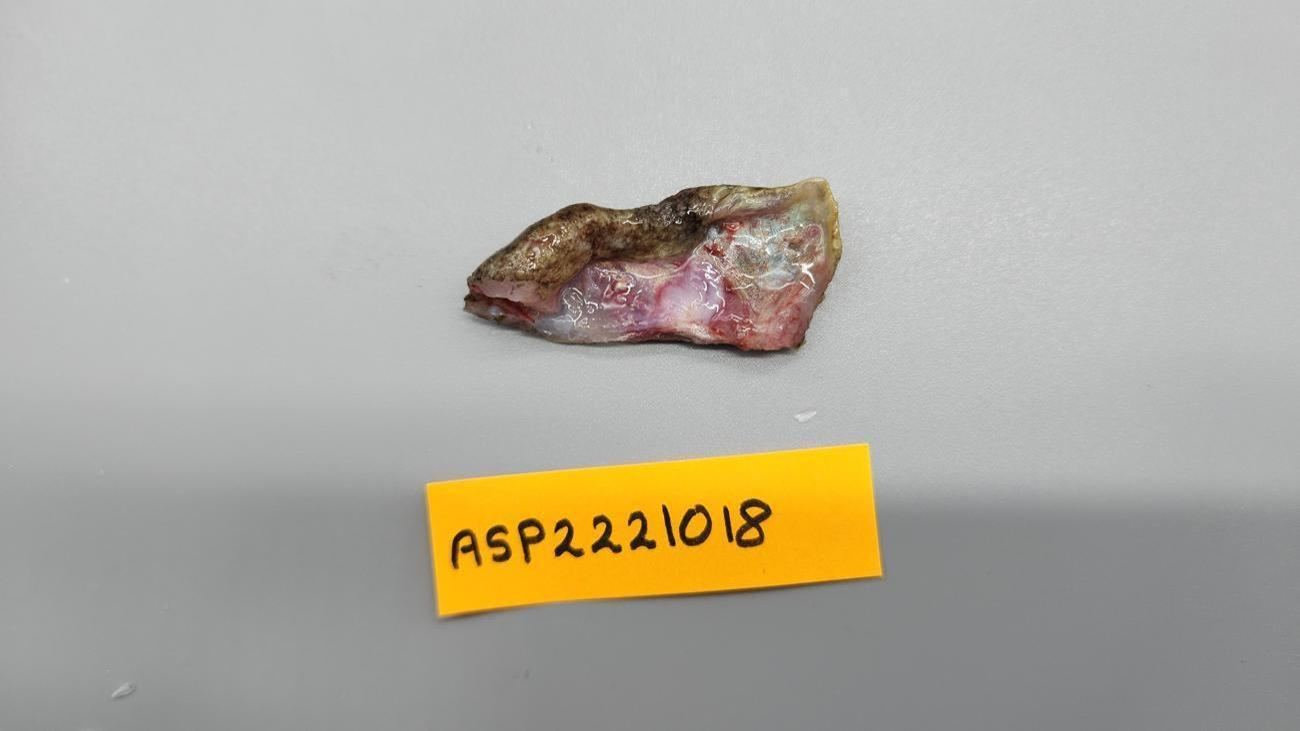SPGCH: (462, 277, 566, 327)
